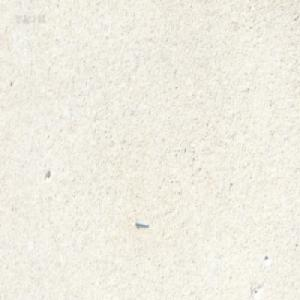Nail: (134, 218, 148, 227)
